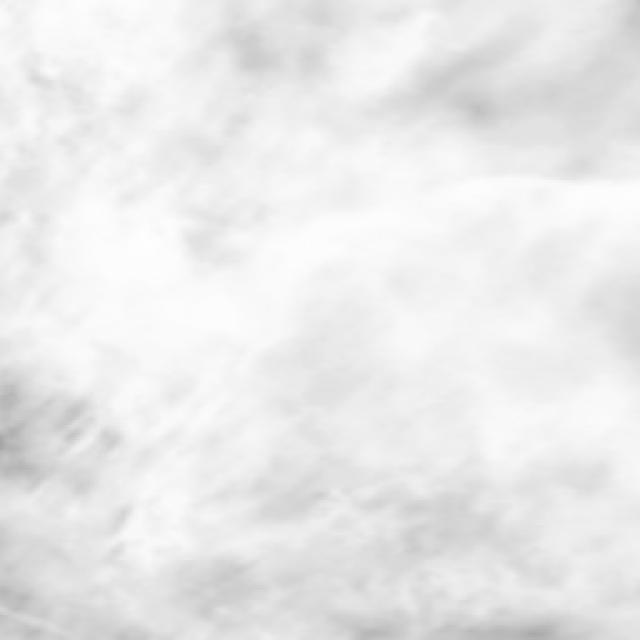CB: (365, 195, 640, 370), (47, 208, 232, 358)
